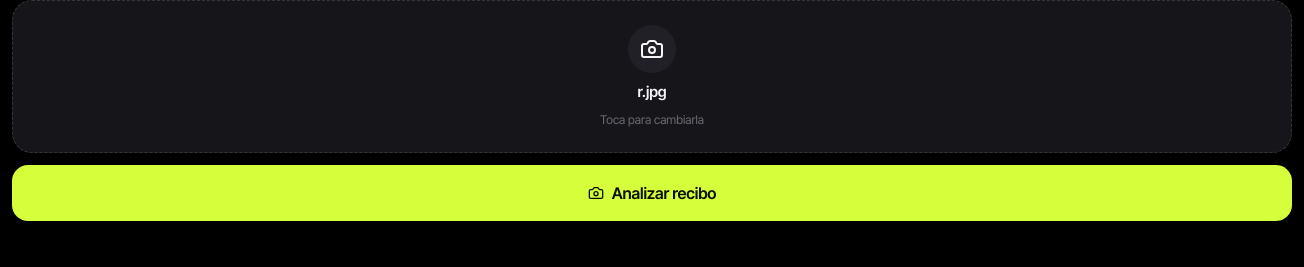
Test: ReceiptUpload › explains a 503 without pretending the receipt was saved
Earlier steps of the test are not shown.
What coordinates should you click on to do the following:
click the button "Analizar recibo"
I would click on:
 (652, 192)
Its box is [12,164,1292,220].
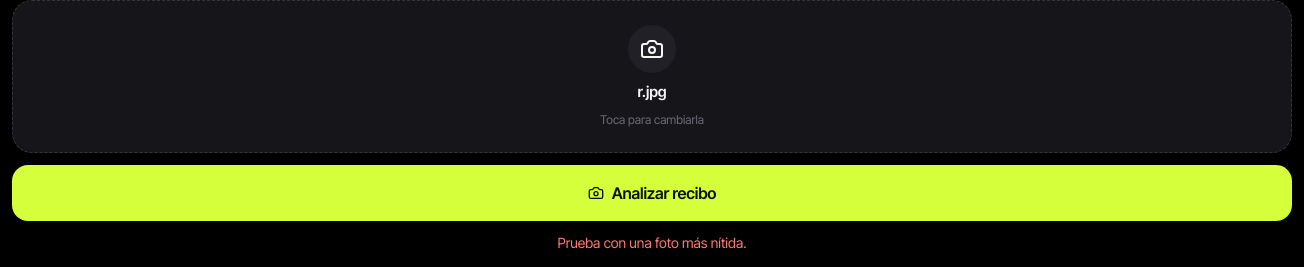
expect the text "Prueba con una foto más nítida." is shown: met, box [558,234,746,250]
